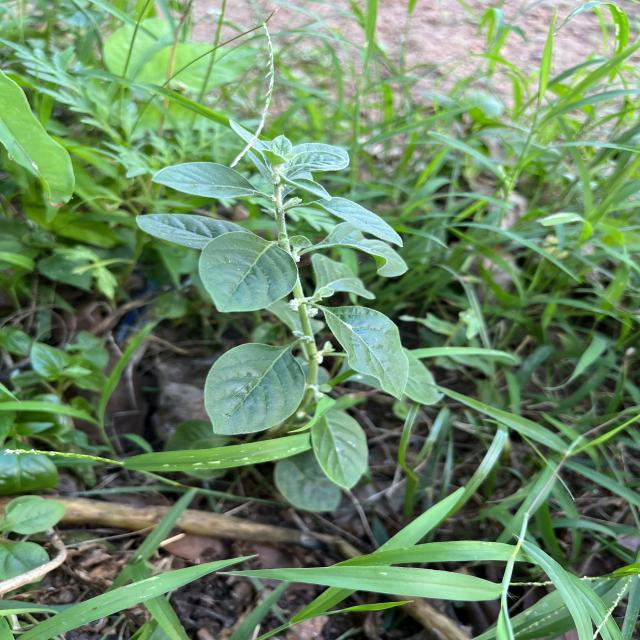Aerva lanata: (200, 340, 308, 438), (319, 302, 412, 402), (196, 229, 300, 315), (302, 197, 405, 249), (133, 211, 260, 251), (148, 160, 260, 200)
